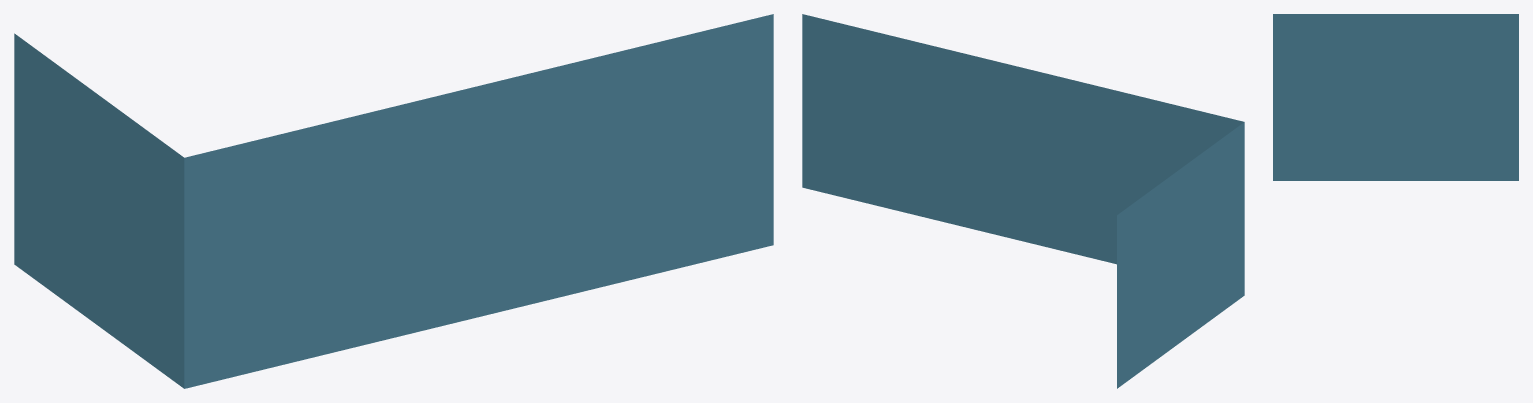
3 renders of one model, left to right at view 1: azimuth 30°, elevation 25°; view 2: azimuth 150°, elevation 25°; view 3: azimuth 270°, elevation 25°, orthographic. The views are drawn at different scales.
Bounding box in the file's own units: 0.5 × 0.1875 × 0.25.
1 material, 1 textured.
